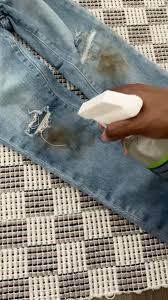earth: (97, 55, 118, 80), (46, 130, 76, 146)
